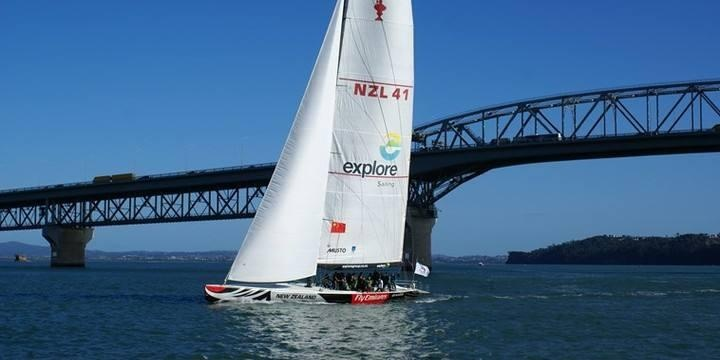fanchuan: (201, 1, 421, 306)
